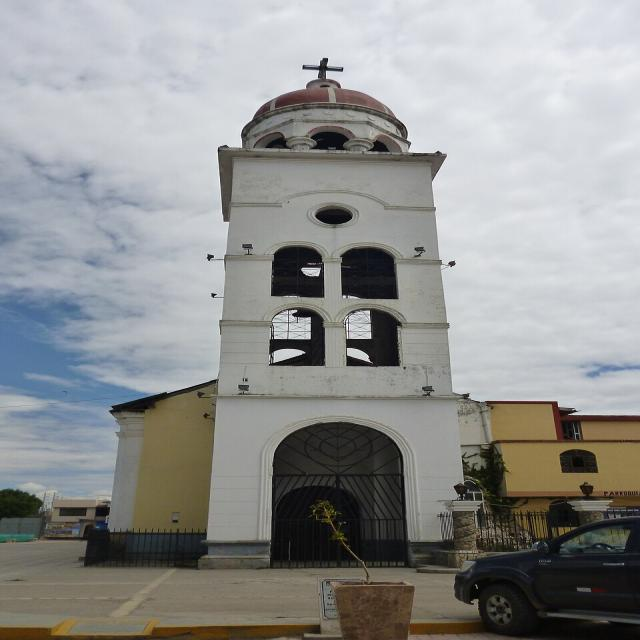CAMPANARIO: (209, 242, 466, 386)
CUPULA: (231, 79, 425, 153)
TORRES: (187, 53, 493, 576)
colonial-architecture-: (25, 46, 553, 594)
